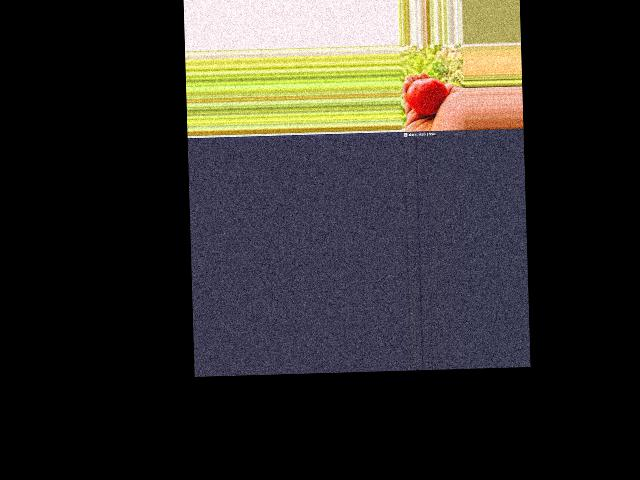tomato: (406, 78, 448, 115)
